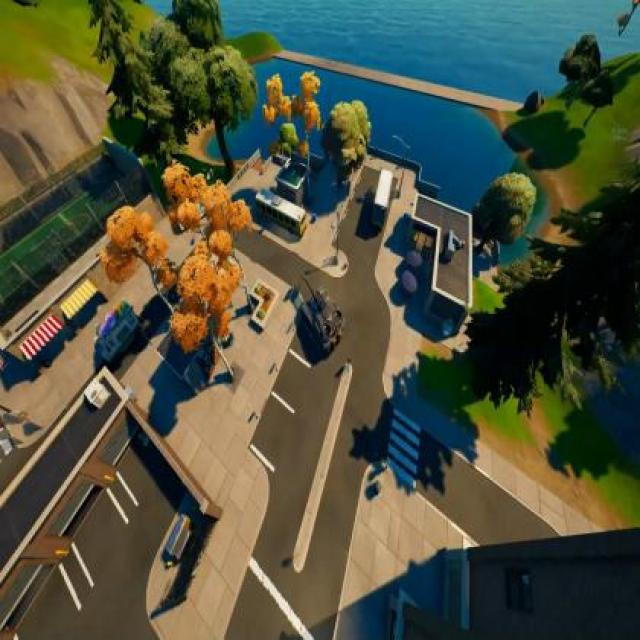tank: (300, 273, 346, 355)
